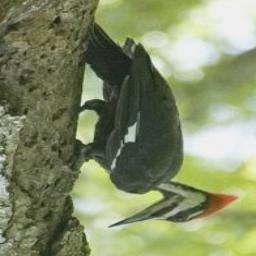Woodpecker: (71, 23, 240, 228)
